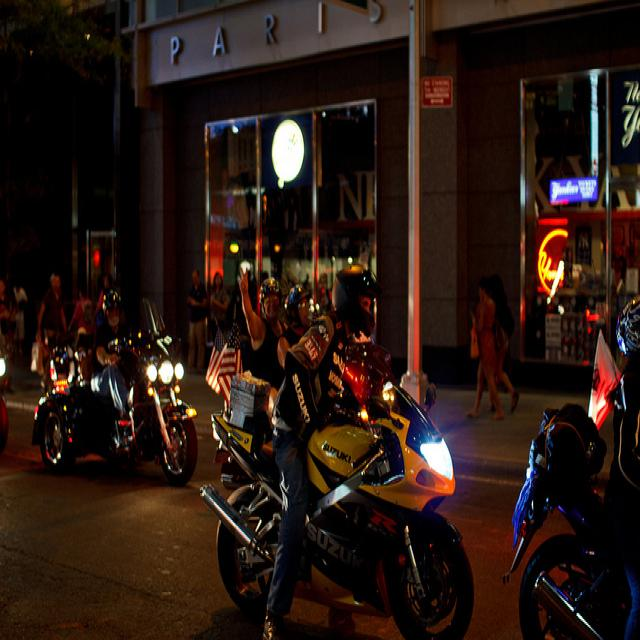Motorbike: (196, 346, 471, 640), (519, 363, 640, 640), (36, 312, 196, 483)
